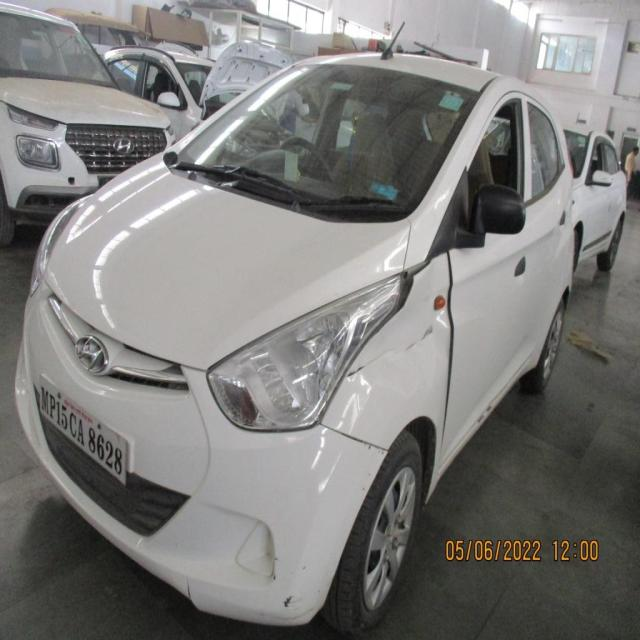damage: (346, 307, 451, 389), (395, 256, 432, 313), (279, 583, 299, 616), (181, 574, 198, 608)
